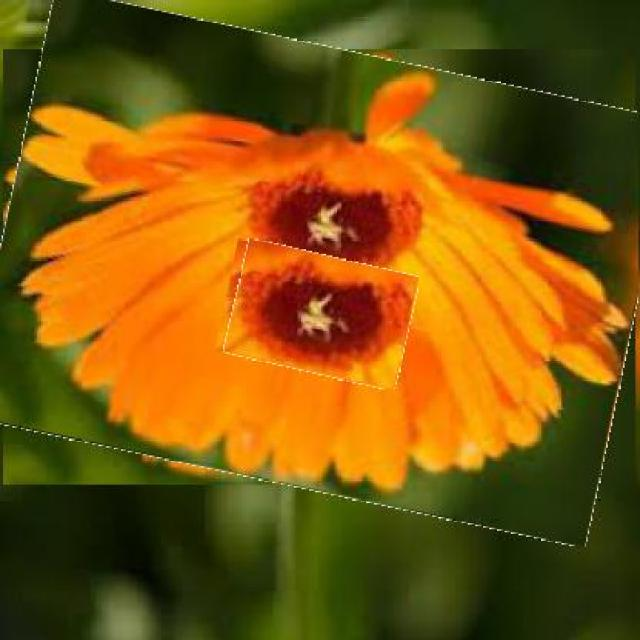Flower: (0, 18, 638, 516), (229, 247, 415, 382)
